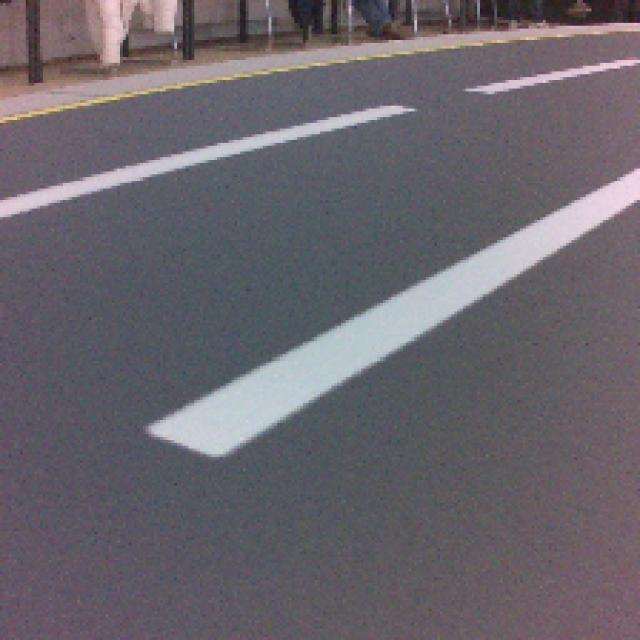Guard rail: (158, 169, 640, 454)
